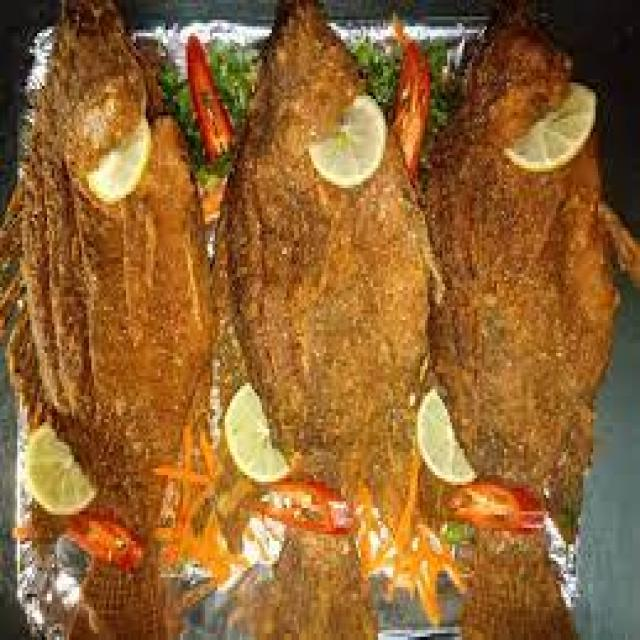Peixe: (0, 0, 638, 637), (0, 0, 215, 551), (207, 0, 435, 505), (418, 0, 638, 521)
